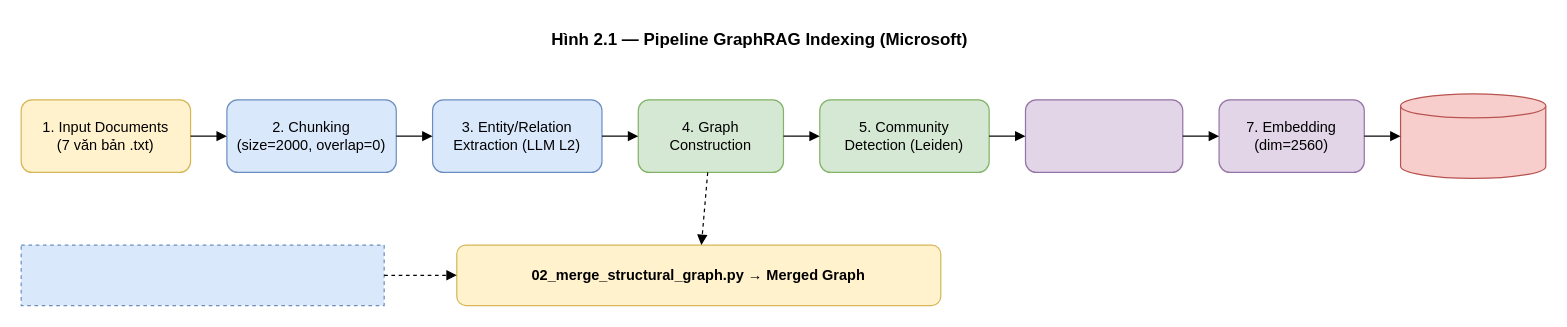
Some shapes in this 1567 by 327 pixel diagram are drawn without their labels. The centre of each missing label's shape, as x and y in pixels:
6. Community Reports (LLM): [1103,135]
8. Parquet Artifacts: [1472,135]
L1 Structural Graph (01_prepare_data.py): [202,275]
